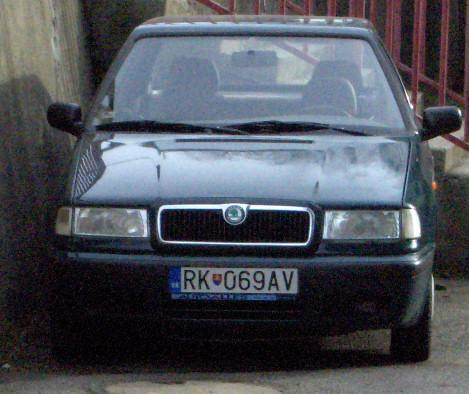placa de veiculo: (160, 258, 311, 310)
